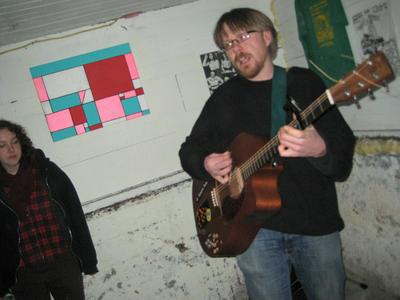person: (178, 8, 357, 300)
